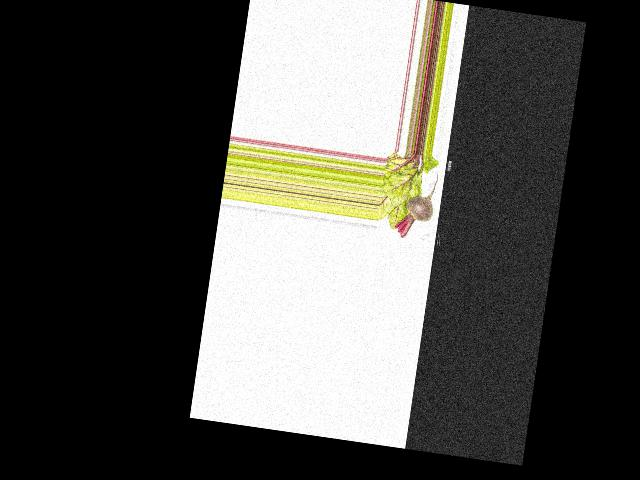beet: (393, 167, 439, 241)
